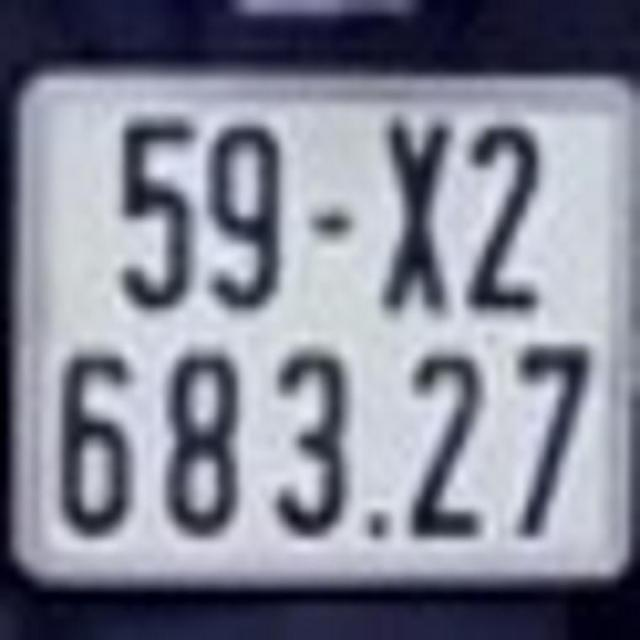2: (413, 359, 480, 536), (473, 128, 531, 304)
3: (278, 347, 340, 544)
5: (120, 116, 196, 306)
6: (65, 354, 124, 541)
7: (518, 340, 592, 538)
8: (170, 354, 234, 537)
9: (208, 129, 283, 306)
X: (387, 120, 448, 309)
